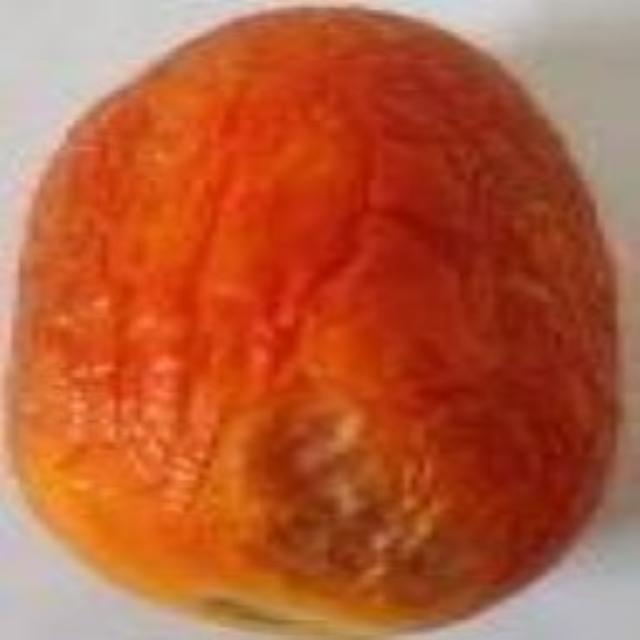defect: (3, 6, 627, 634)
